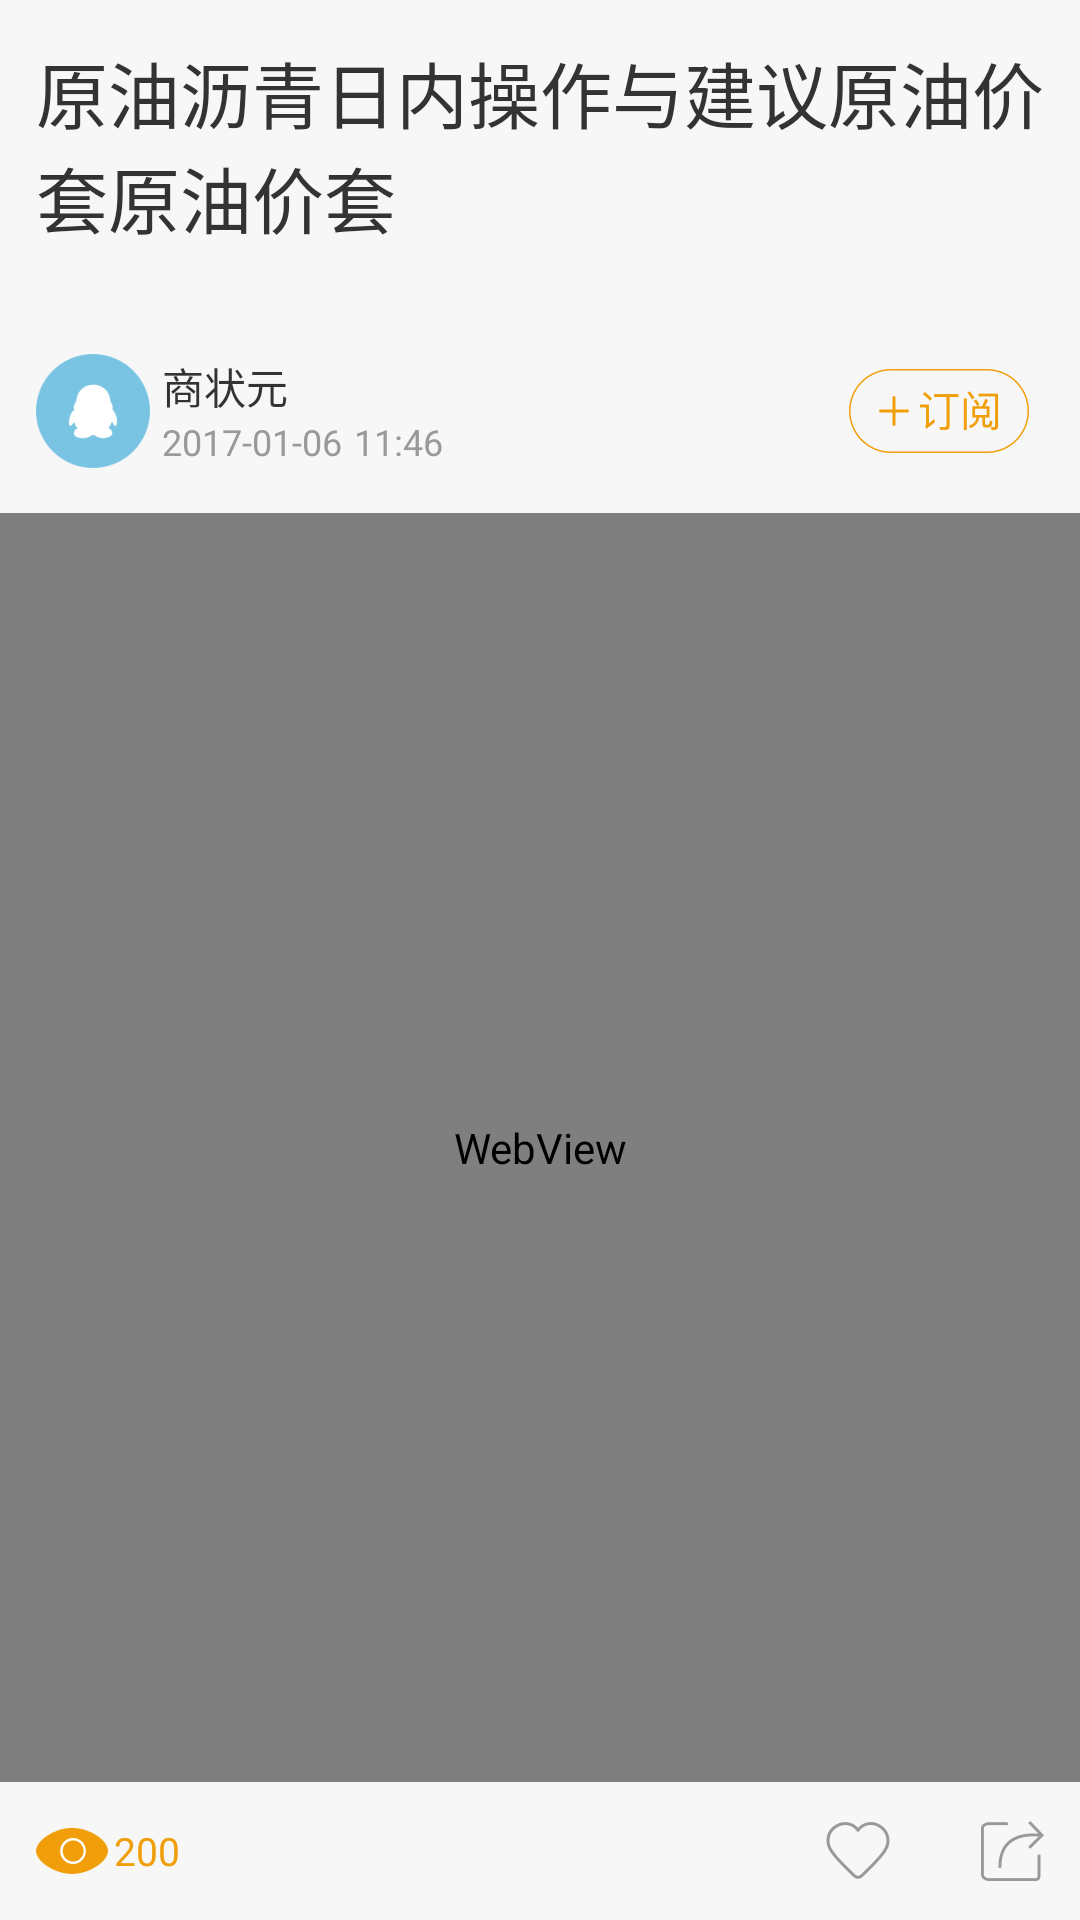

Where icons sit on this 1080w x 1920h app screen, as (x1, y1, x2, y2):
fav collection: (826, 1822, 890, 1879)
readcount: (36, 1828, 108, 1874)
share: (981, 1821, 1044, 1881)
